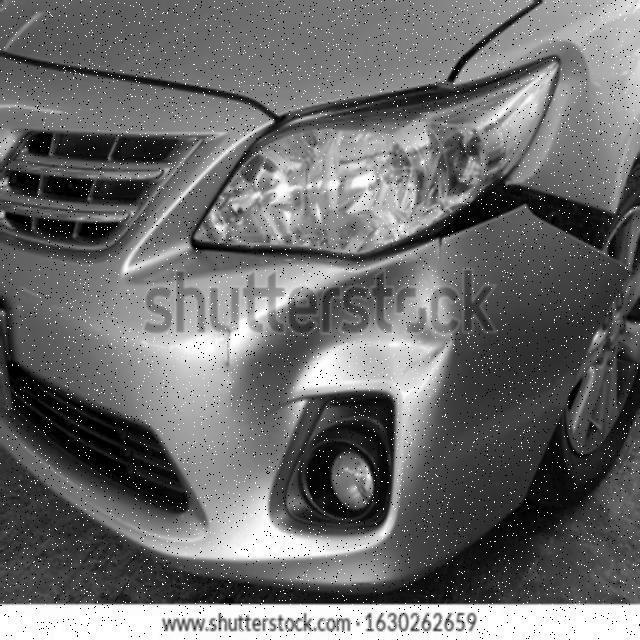fender-dent: (448, 0, 638, 252)
front-bumper-dent: (0, 208, 638, 565)
